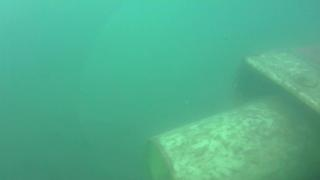pipe: (145, 93, 320, 180)
station: (238, 43, 320, 134)
